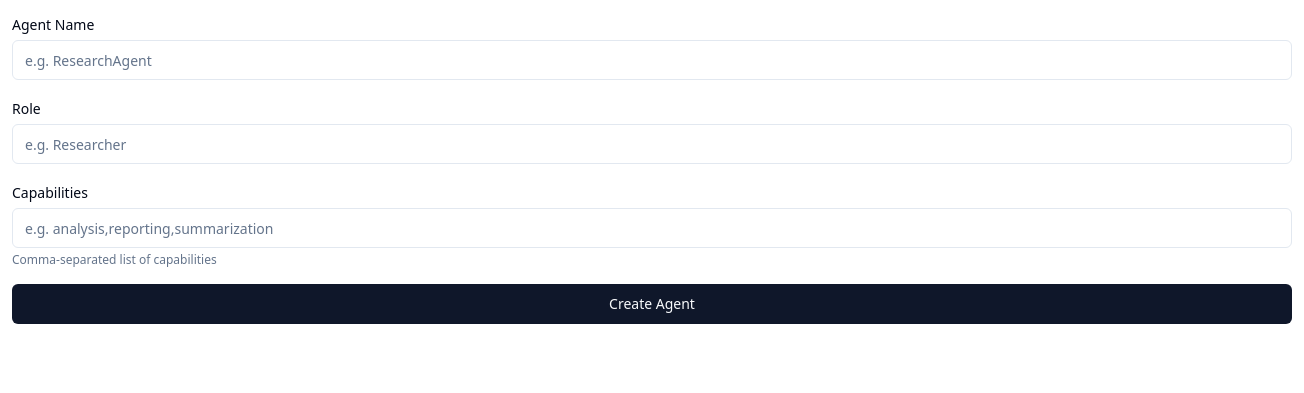
Test: AgentCreateForm › shows validation error when name is empty on submit
Click the button "Create Agent" at (652,304), box [12,284,1292,324]
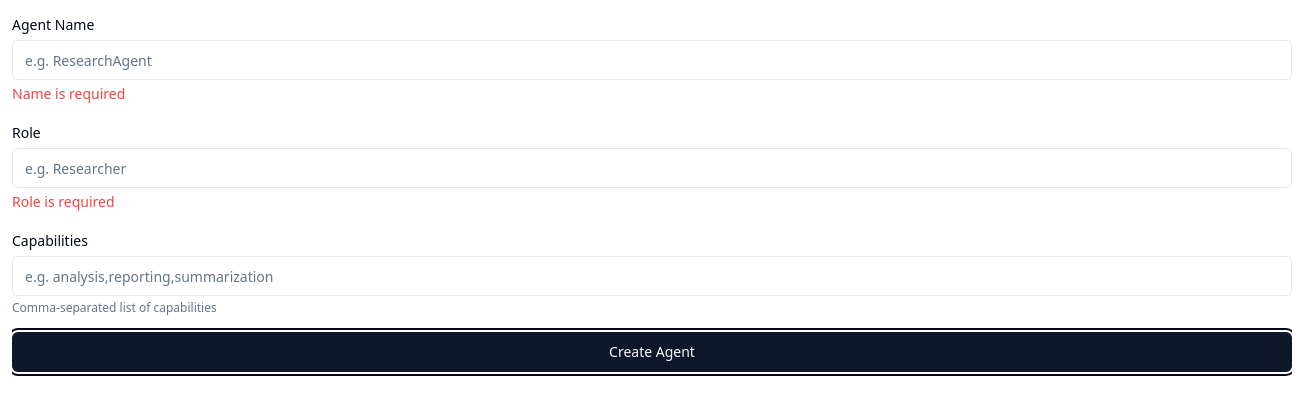
expect the text "Name is required" is shown: met, box [12,84,125,103]
